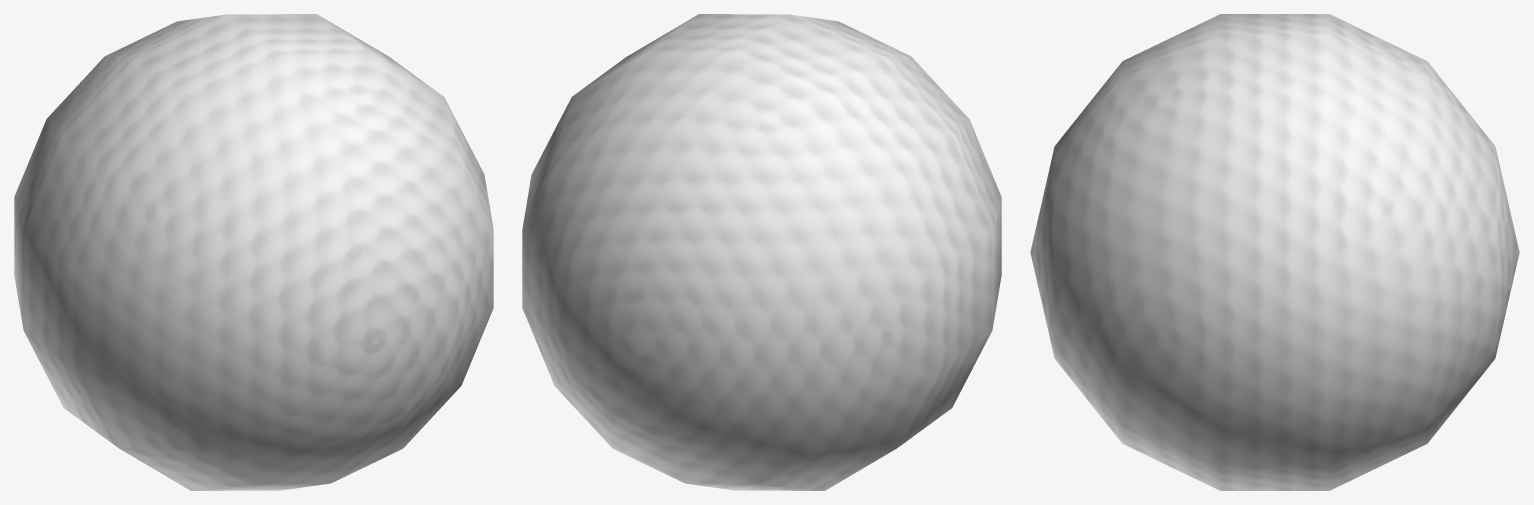
Rendered from GolfballOTL.FBX.
The picture shows the model from 3 angles, left to right: view 1: azimuth 30°, elevation 25°; view 2: azimuth 150°, elevation 25°; view 3: azimuth 270°, elevation 25°; orthographic projection.
Parts seen in each view (by area): view 1: golfball_hi; view 2: golfball_hi; view 3: golfball_hi.
Part boxes in pixels (x1,y1,x2,y2): golfball_hi: (14,14,493,490); golfball_hi: (522,14,1001,490); golfball_hi: (1030,14,1519,490).
Bounding box in the file's own units: 0.0653 × 0.067 × 0.0687.
1 material, 1 textured.
